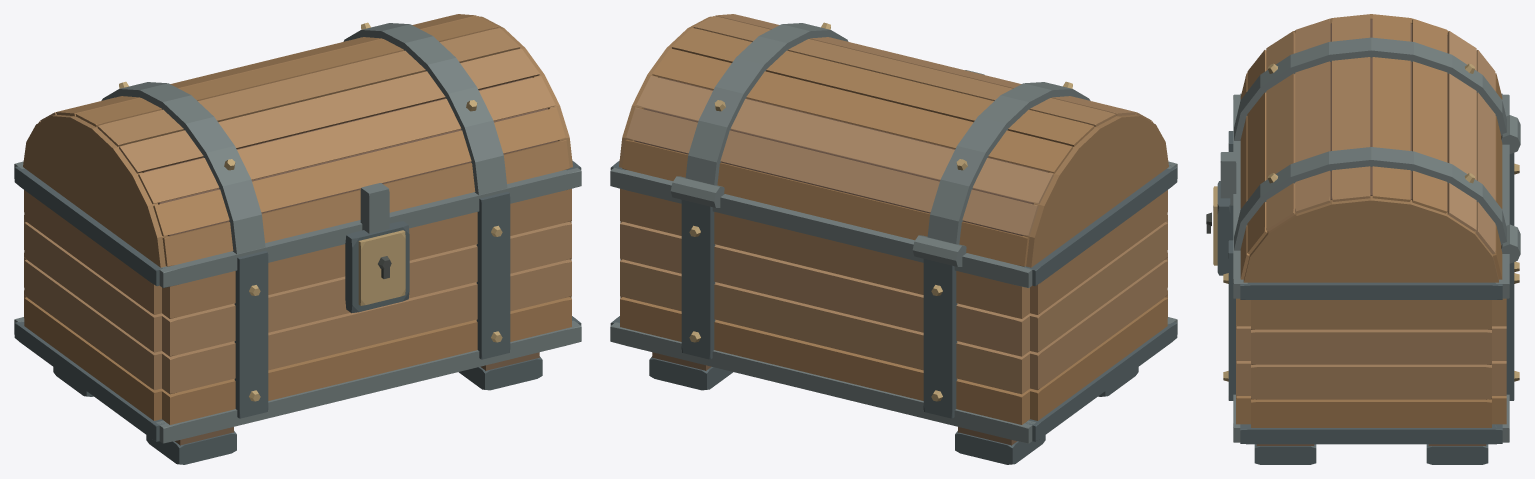
The picture shows the model from 3 angles, left to right: view 1: azimuth 30°, elevation 25°; view 2: azimuth 150°, elevation 25°; view 3: azimuth 270°, elevation 25°; orthographic projection. The views are drawn at different scales.
Parts seen in each view (by area): view 1: Cinderwood Coffer; view 2: Cinderwood Coffer; view 3: Cinderwood Coffer.
Boxes of the visible parts, box(x1,y1,x2,y2) form: Cinderwood Coffer: box(14, 14, 581, 464); Cinderwood Coffer: box(610, 14, 1177, 464); Cinderwood Coffer: box(1206, 14, 1520, 464).
Bounding box in the file's own units: 1.86 × 1.28 × 1.28.
